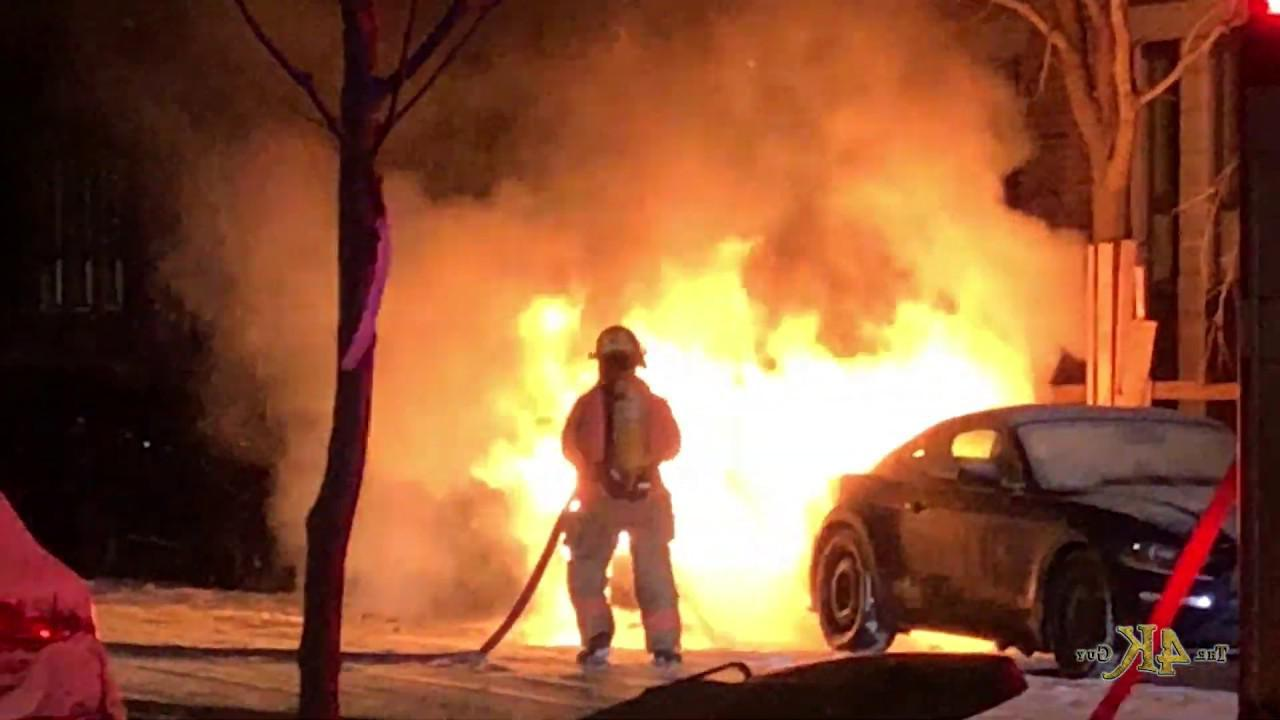Fire: (636, 239, 1027, 653), (494, 291, 602, 652)
